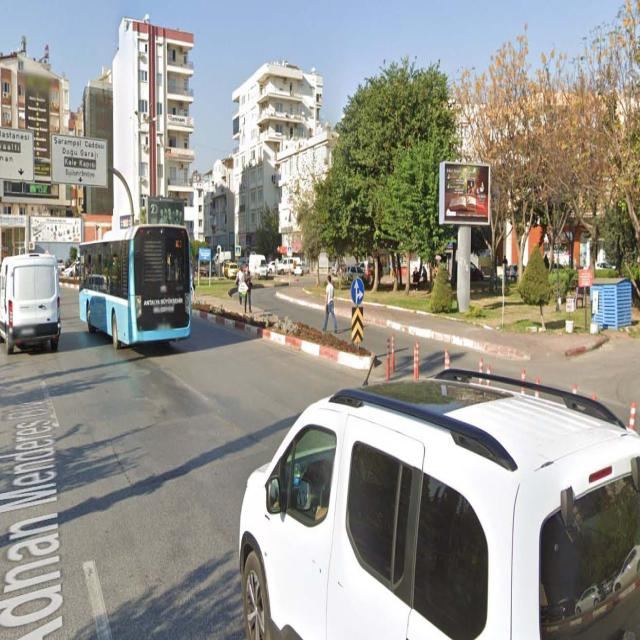ilerisag: (350, 277, 364, 302)
